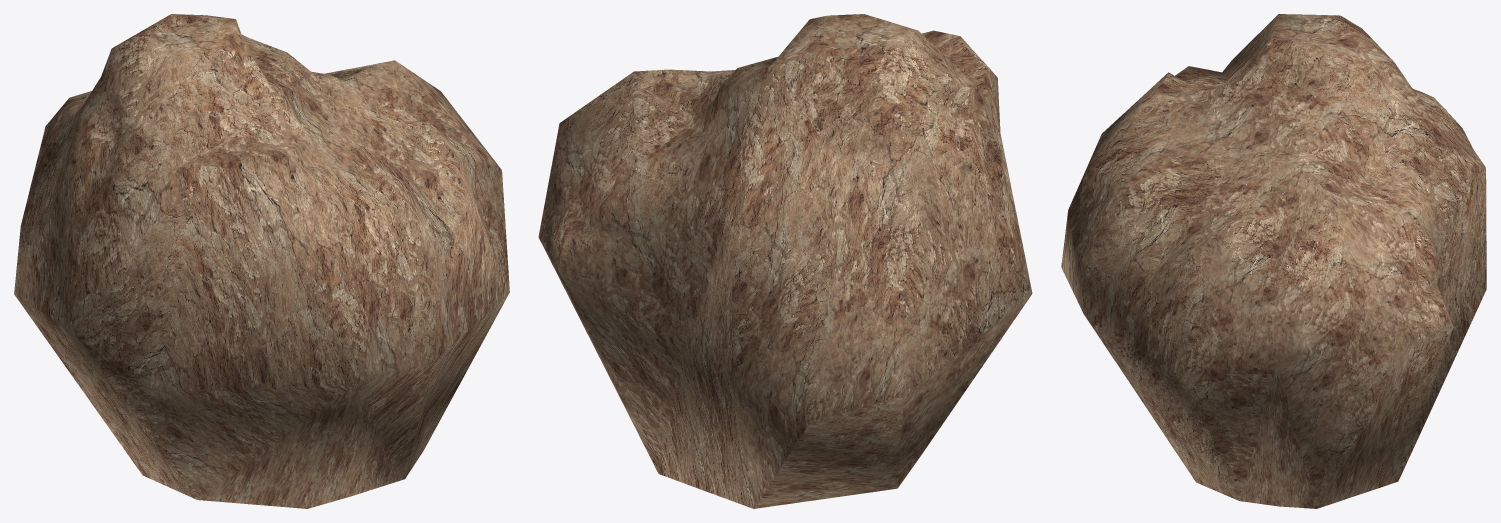
The model's file is rock_tatt_boulder_flat_l0.fbx.
3 renders of one model, left to right at view 1: azimuth 30°, elevation 25°; view 2: azimuth 150°, elevation 25°; view 3: azimuth 270°, elevation 25°, orthographic. The views are drawn at different scales.
Parts seen in each view (by area): view 1: mesh_node; view 2: mesh_node; view 3: mesh_node.
Part boxes in pixels (box(x1,y1,x2,y2)): mesh_node: box(14, 14, 509, 508); mesh_node: box(538, 14, 1032, 508); mesh_node: box(1061, 14, 1486, 508).
Size of the model in its own units: 7.2 by 6.9 by 6.83.
